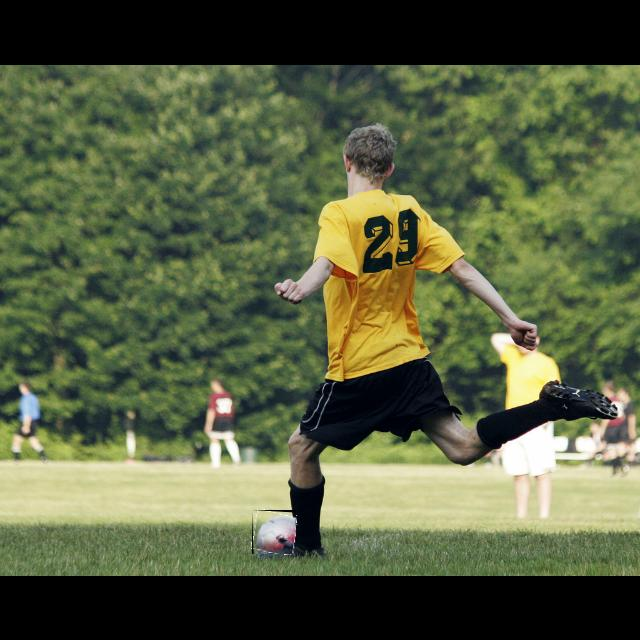Football: (252, 510, 296, 554)
